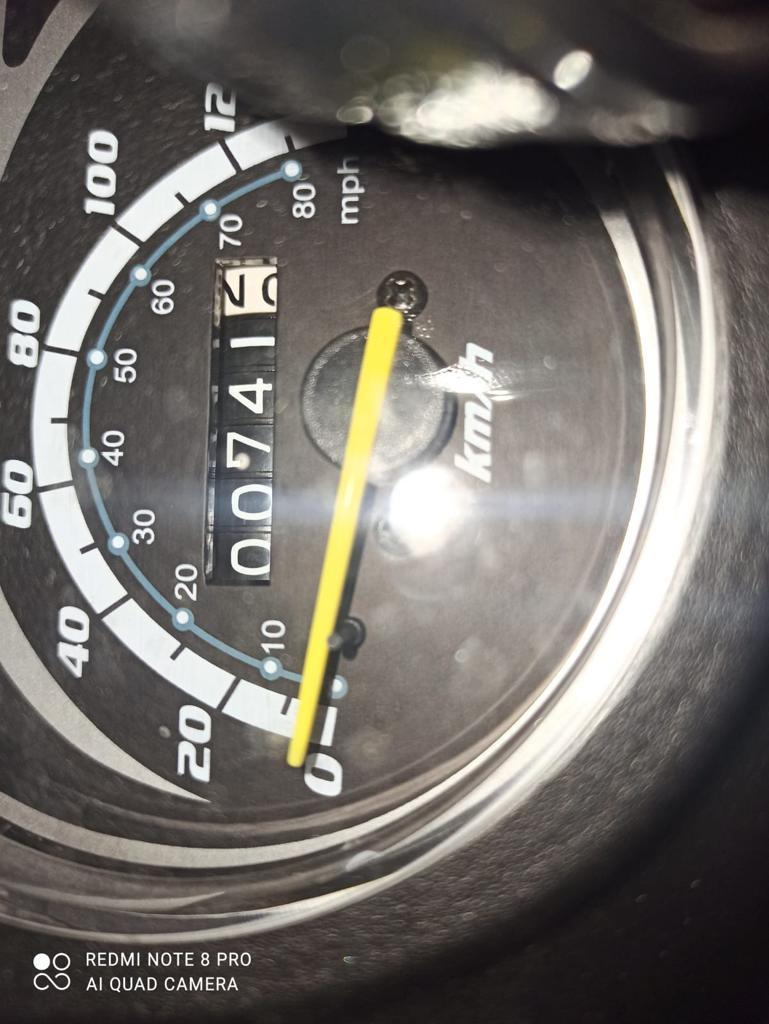0: (228, 481, 275, 523), (228, 536, 272, 578)
1: (226, 329, 278, 356)
2: (220, 271, 249, 308)
4: (224, 373, 278, 418)
7: (221, 429, 275, 472)
odometer: (191, 249, 287, 596)
